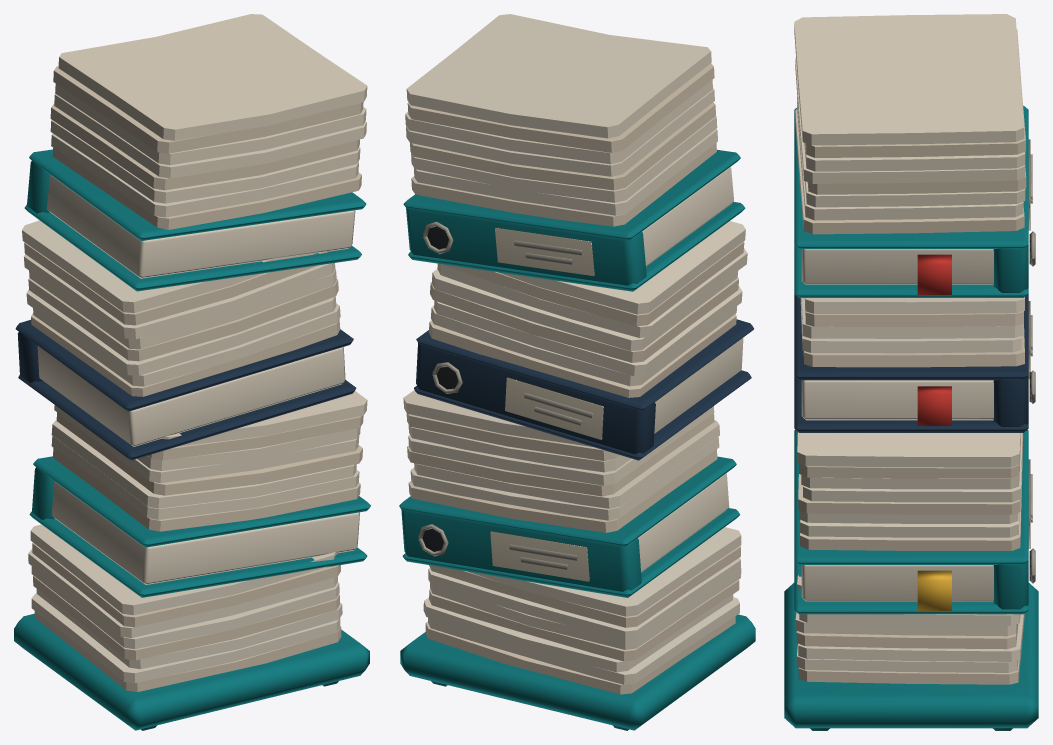
File: paper_tower.glb
The picture shows the model from 3 angles, left to right: view 1: azimuth 30°, elevation 25°; view 2: azimuth 150°, elevation 25°; view 3: azimuth 270°, elevation 25°; orthographic projection. The views are drawn at different scales.
Visible parts, largest first — view 1: TowerUpper_Geometry, TowerCrown_Geometry, TowerLow_Geometry, TowerMiddle_Geometry, TowerBase_Geometry; view 2: TowerUpper_Geometry, TowerCrown_Geometry, TowerLow_Geometry, TowerMiddle_Geometry, TowerBase_Geometry; view 3: TowerCrown_Geometry, TowerMiddle_Geometry, TowerLow_Geometry, TowerUpper_Geometry, TowerBase_Geometry.
Boxes of the visible parts, x1,y1,x2,y2 form: TowerUpper_Geometry: [22, 149, 366, 396]; TowerCrown_Geometry: [50, 14, 367, 229]; TowerLow_Geometry: [28, 456, 370, 691]; TowerMiddle_Geometry: [15, 319, 367, 531]; TowerBase_Geometry: [14, 613, 369, 730]; TowerUpper_Geometry: [403, 149, 747, 397]; TowerCrown_Geometry: [405, 14, 717, 226]; TowerLow_Geometry: [399, 456, 741, 694]; TowerMiddle_Geometry: [403, 319, 753, 532]; TowerBase_Geometry: [400, 614, 755, 730]; TowerCrown_Geometry: [794, 14, 1026, 234]; TowerMiddle_Geometry: [794, 294, 1035, 550]; TowerLow_Geometry: [794, 429, 1035, 684]; TowerUpper_Geometry: [794, 105, 1035, 367]; TowerBase_Geometry: [784, 583, 1038, 730].
Bounding box in the file's own units: 1.09 × 2.41 × 0.89.
